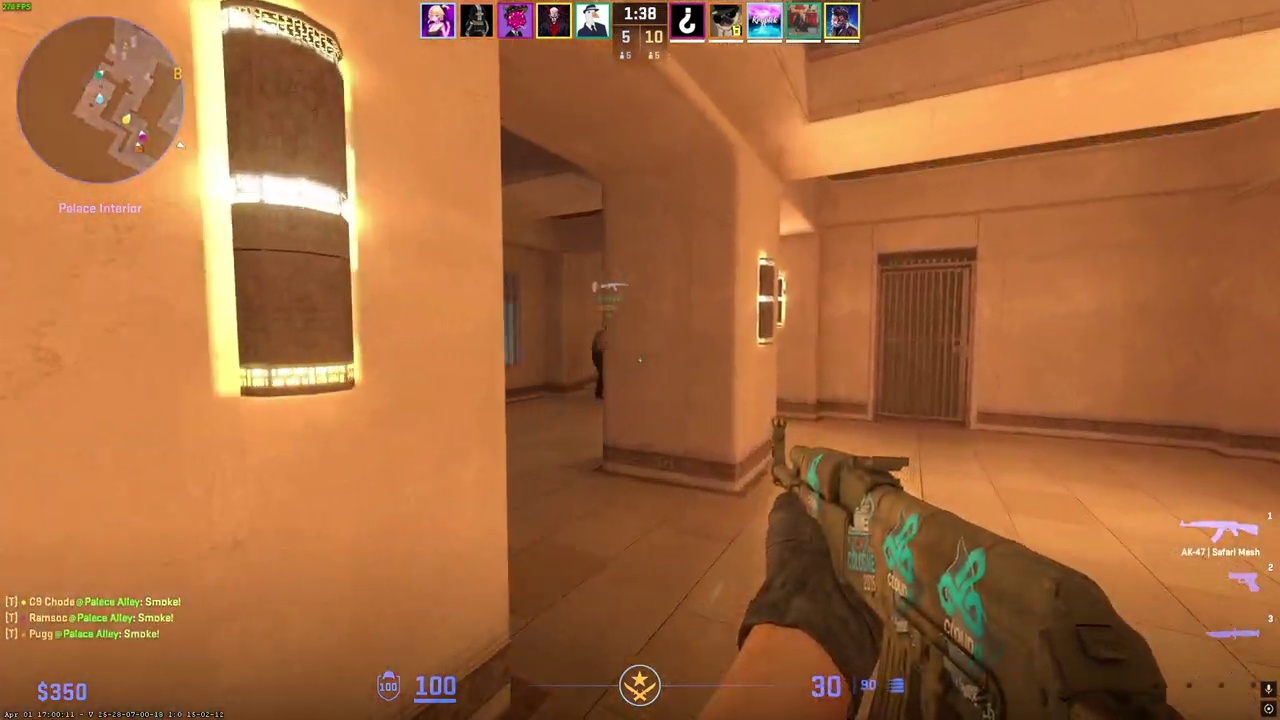Terrorist: (591, 326, 608, 399)
